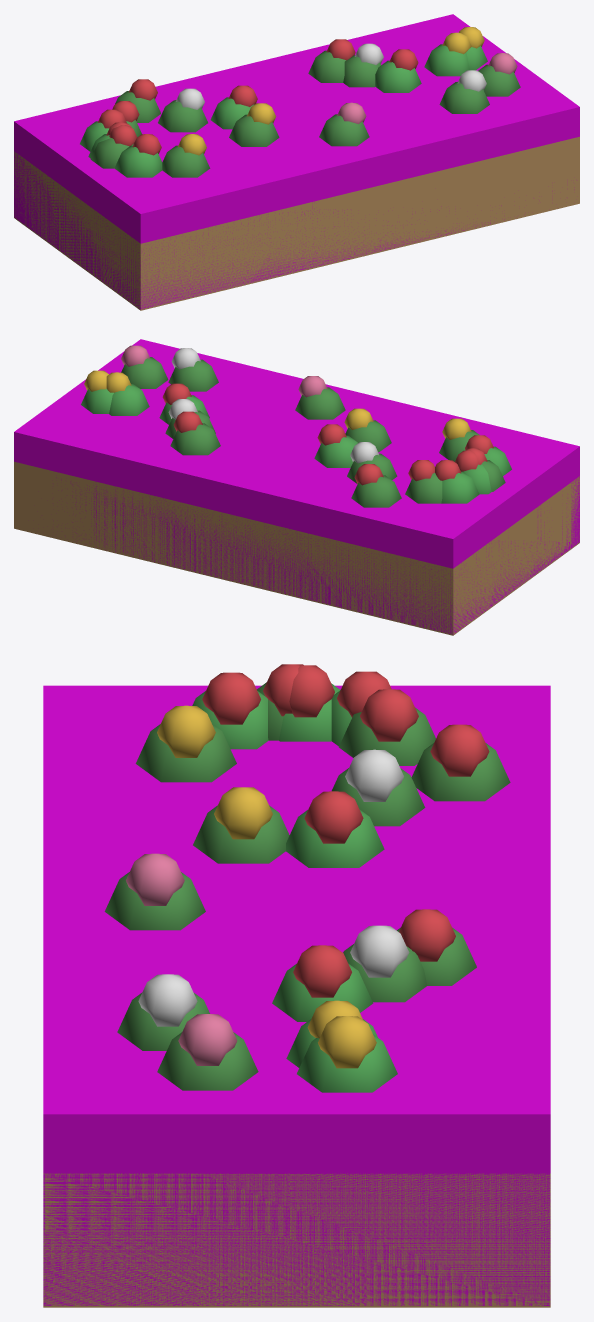
File: flower_bed-CQZHlK3d.glb
3 views of the same model, one above another, from view 1: azimuth 30°, elevation 25°; view 2: azimuth 150°, elevation 25°; view 3: azimuth 270°, elevation 25° (orthographic). The views are drawn at different scales.
Parts seen in each view (by area): view 1: COL_flower_bed, flower_bed; view 2: COL_flower_bed, flower_bed; view 3: COL_flower_bed, flower_bed.
Boxes of the visible parts, x1,y1,x2,y2 form: COL_flower_bed: (14,14,579,309); flower_bed: (14,27,579,310); COL_flower_bed: (14,339,579,634); flower_bed: (14,345,579,635); COL_flower_bed: (43,685,550,1305); flower_bed: (43,664,550,1307).
Bounding box in the file's own units: 2.4 × 0.675 × 1.2.
